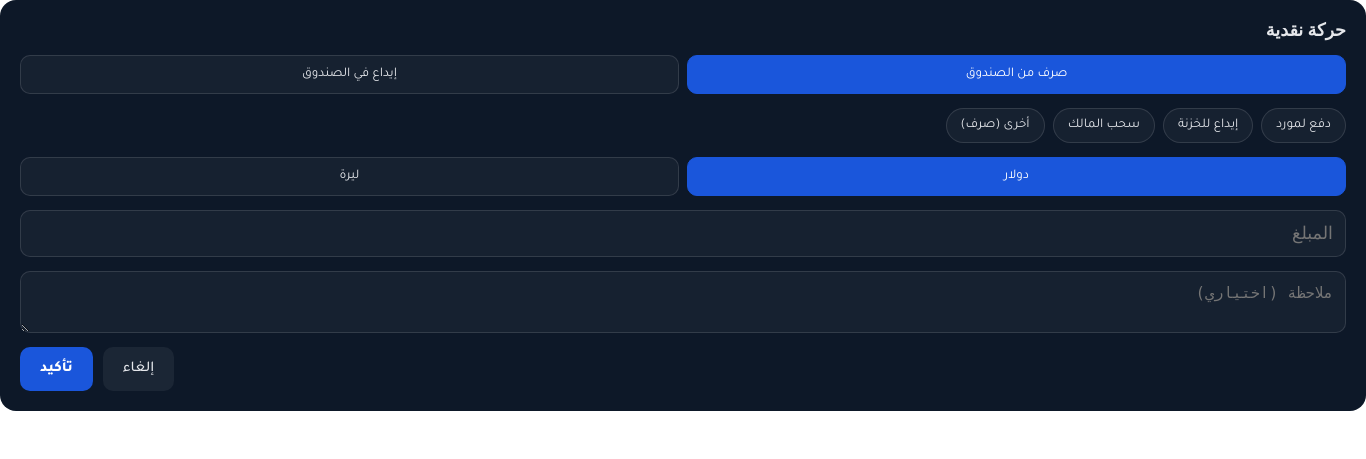
it: RecordCashMovementSheet › shows an inline error when confirming with no category selected
In the number field with test id "amount": (683, 234) [20,210,1346,257], type "50"
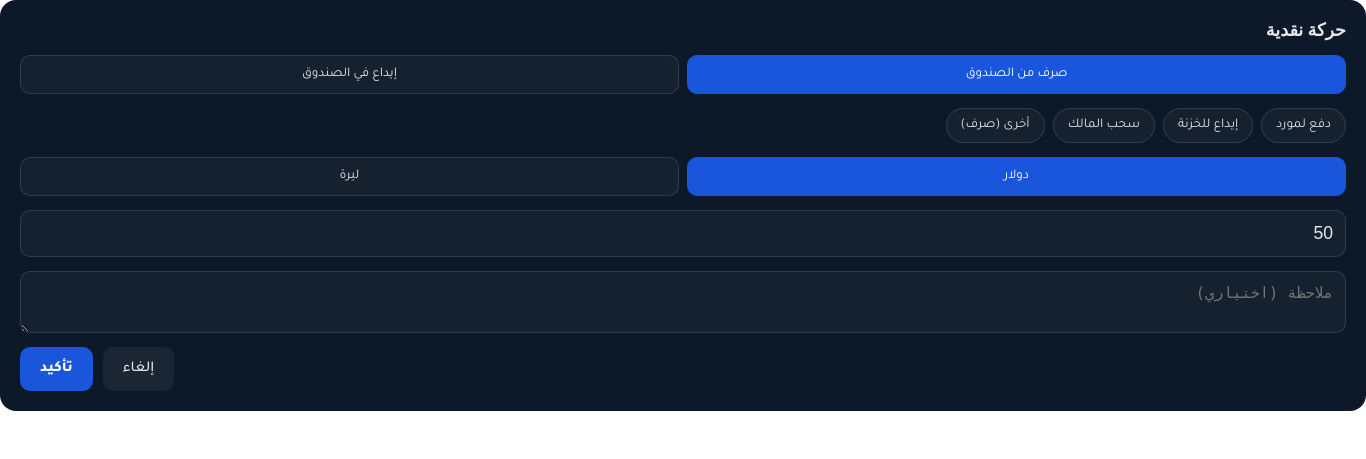
Click the button with test id "confirm": click(56, 369) [20,347,93,391]
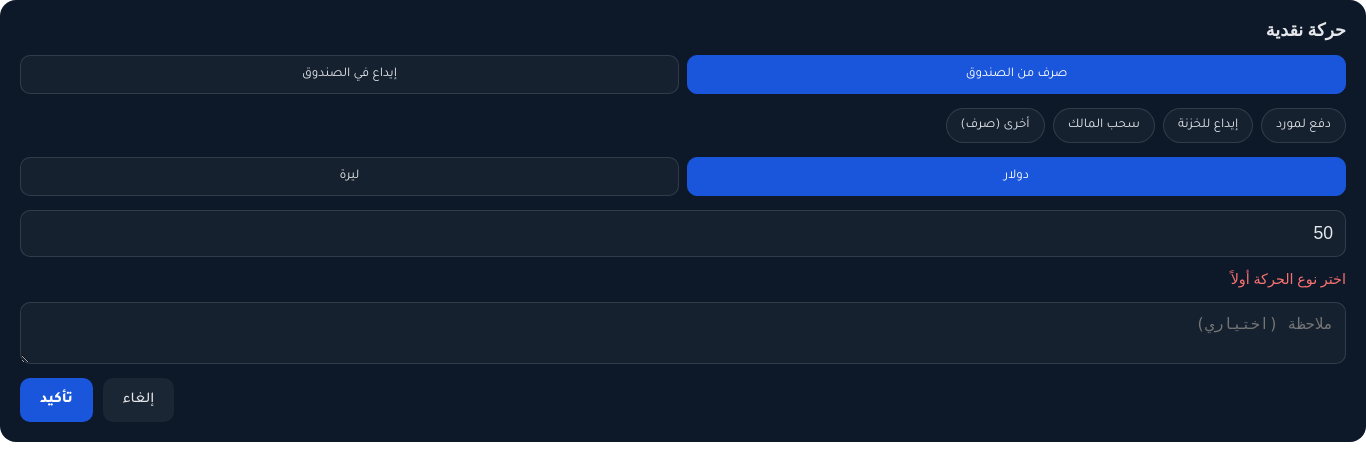
Expected: the text with test id "confirm-error" reads "اختر نوع الحركة أولاً", [1231,271,1346,287]
